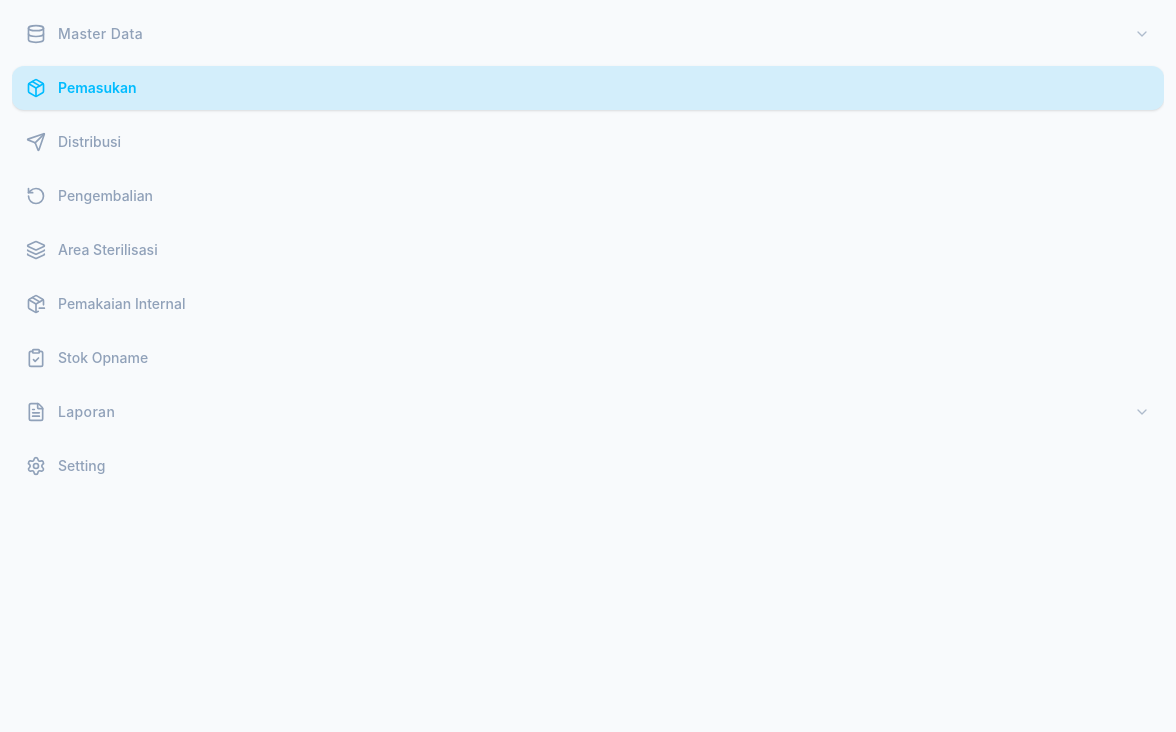
Test: SidebarNav › toggles the Laporan submenu when clicked
Expected: the text "Riwayat Transaksi" is not shown
What coordinates should you click on to do the following:
click the button "Laporan"
I would click on:
 (87, 412)
Its box is x1=12 y1=390 x2=1164 y2=434.
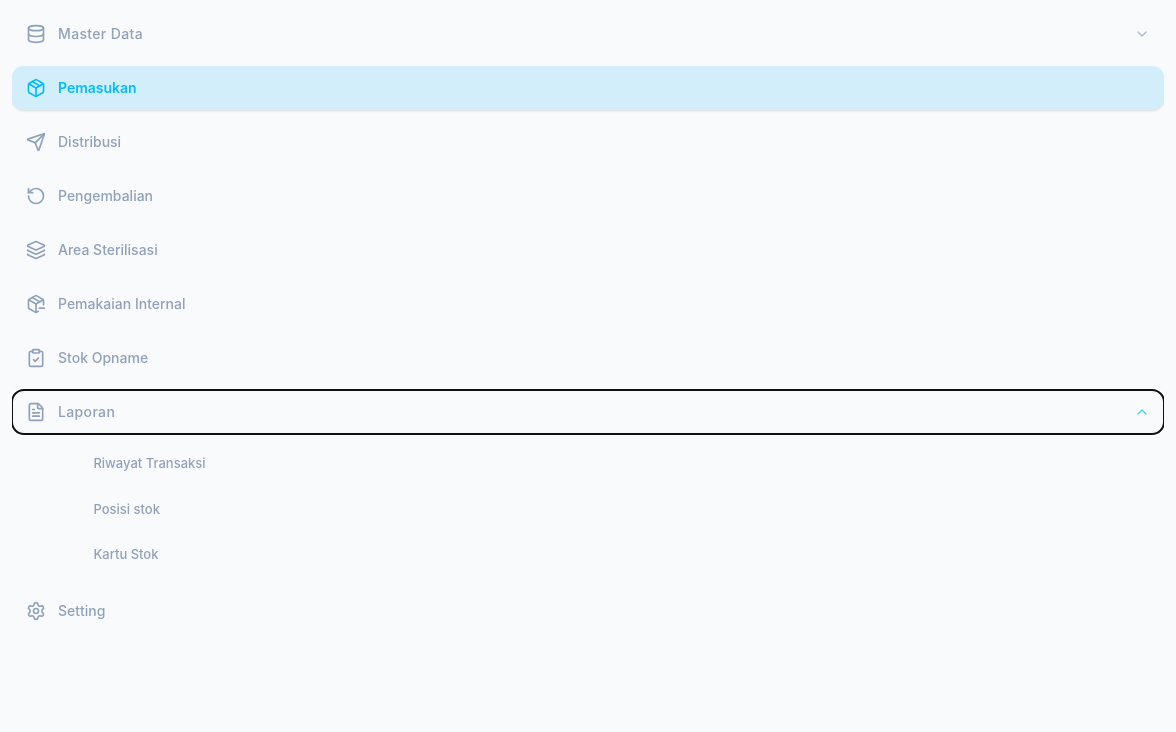
Result: the link "Riwayat Transaksi" is shown at x1=93 y1=455 x2=206 y2=471
Result: the link "Posisi stok" is shown at x1=93 y1=500 x2=160 y2=516
Result: the link "Kartu Stok" is shown at x1=93 y1=546 x2=158 y2=562
What coordinates should you click on to do the following:
click the button "Laporan"
I would click on:
 (87, 412)
Its box is x1=12 y1=390 x2=1164 y2=434.
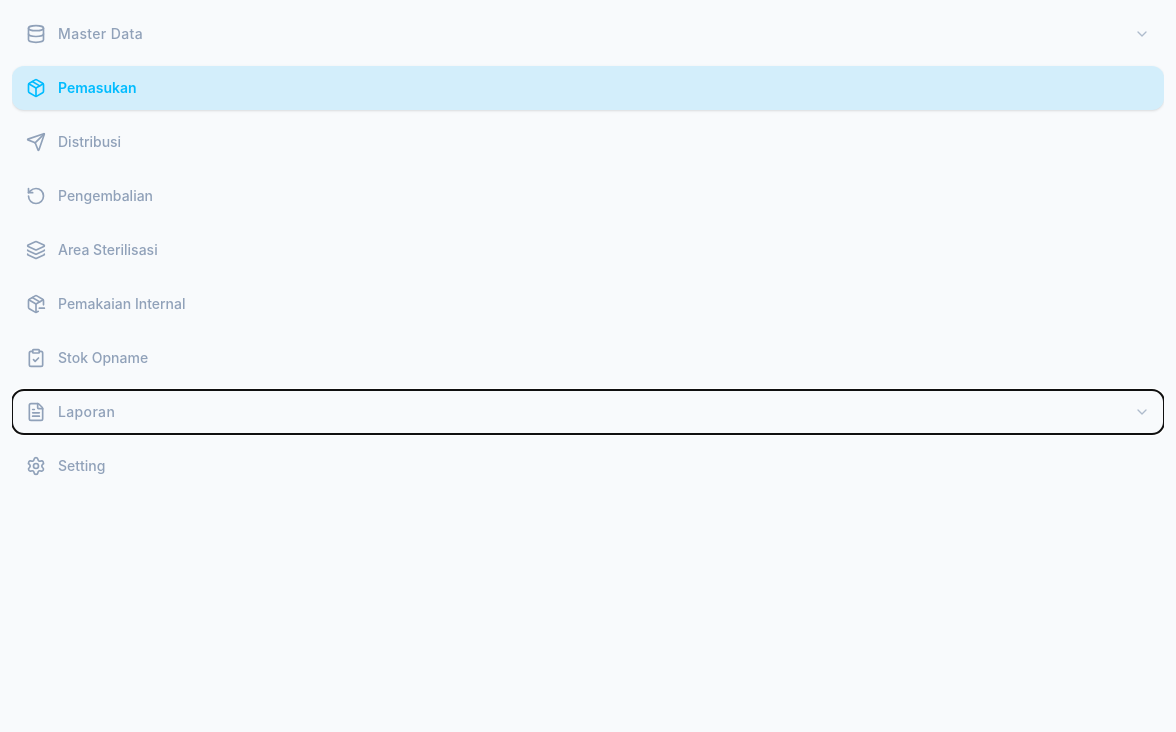
Result: the link "Riwayat Transaksi" is gone
